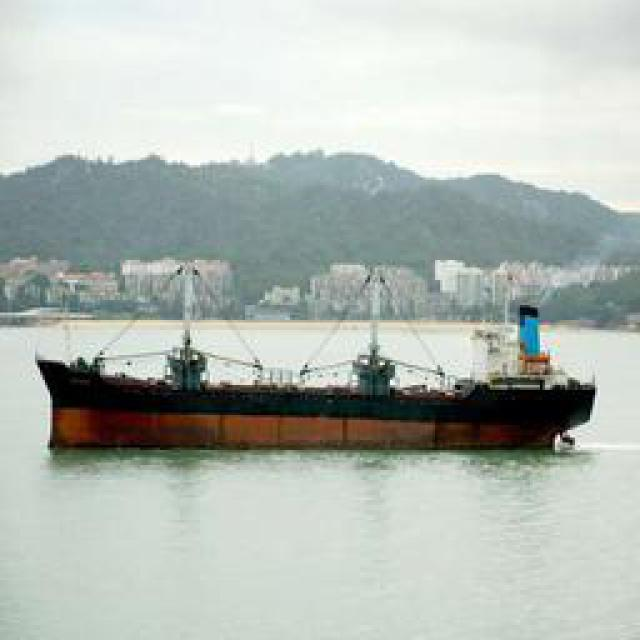Ship: (30, 283, 605, 451)
